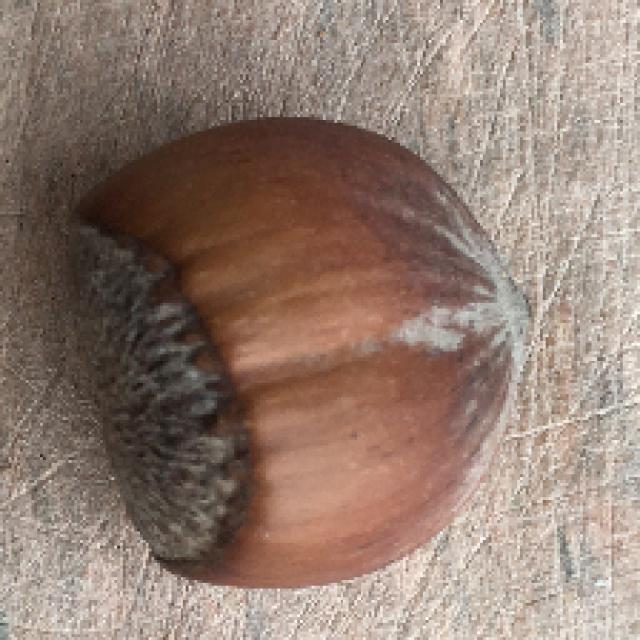damagedHazelnut: (51, 118, 546, 584)
